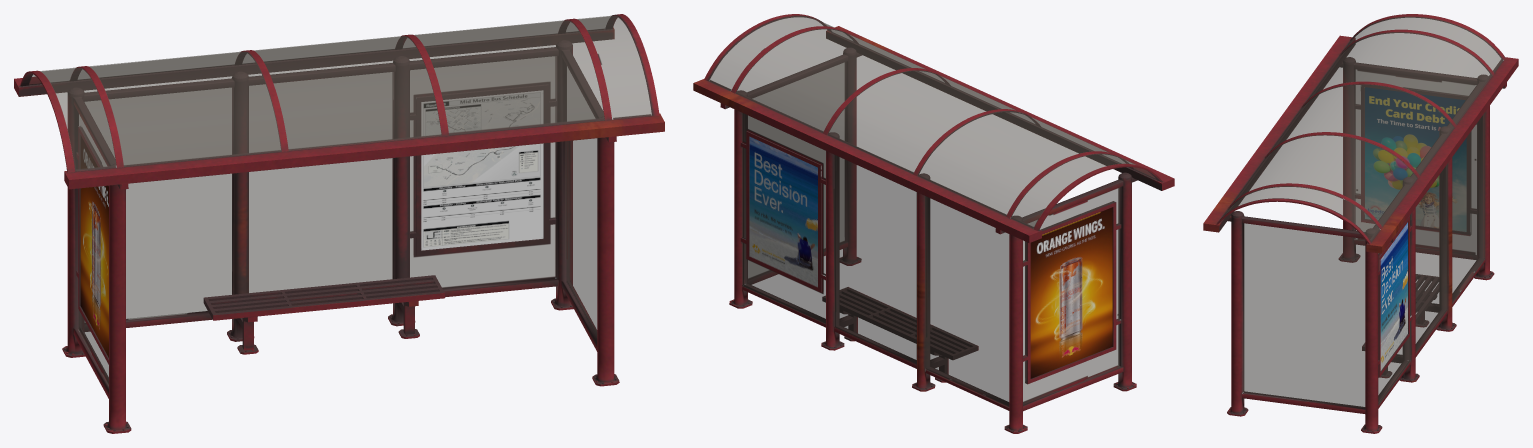
Rendered from bus_station0.glb.
3 renders of one model, left to right at view 1: azimuth 30°, elevation 25°; view 2: azimuth 150°, elevation 25°; view 3: azimuth 270°, elevation 25°, orthographic. The views are drawn at different scales.
Visible parts, largest first — view 1: BusStop_Structure_shader_0, BusStop_Sign_shader_0; view 2: BusStop_Structure_shader_0, BusStop_Sign_shader_0; view 3: BusStop_Structure_shader_0, BusStop_Sign_shader_0.
Part boxes in pixels (x1=…): BusStop_Structure_shader_0: x1=14, y1=14, x2=664, y2=433; BusStop_Sign_shader_0: x1=80, y1=90, x2=543, y2=357; BusStop_Structure_shader_0: x1=693, y1=14, x2=1174, y2=433; BusStop_Sign_shader_0: x1=749, y1=137, x2=1112, y2=378; BusStop_Structure_shader_0: x1=1203, y1=14, x2=1518, y2=433; BusStop_Sign_shader_0: x1=1365, y1=87, x2=1466, y2=370.
Bounding box in the file's own units: 6.26 × 3.26 × 3.95.
2 materials, 2 textured.
